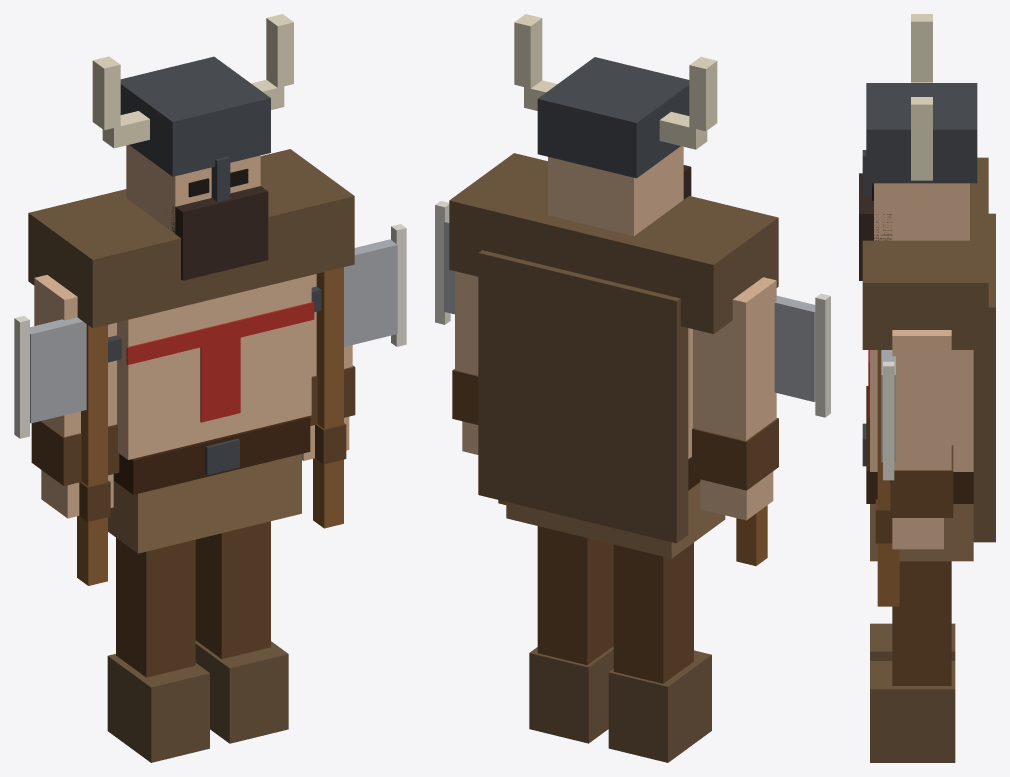
Rendered from warrior_placeholder.glb.
The picture shows the model from 3 angles, left to right: view 1: azimuth 30°, elevation 25°; view 2: azimuth 150°, elevation 25°; view 3: azimuth 270°, elevation 25°; orthographic projection. The views are drawn at different scales.
Parts seen in each view (by area): view 1: warrior_placeholder; view 2: warrior_placeholder; view 3: warrior_placeholder.
Part boxes in pixels (x1,y1,x2,y2): warrior_placeholder: [14, 14, 406, 762]; warrior_placeholder: [435, 14, 830, 762]; warrior_placeholder: [859, 14, 995, 762].
Bounding box in the file's own units: 1.18 × 2 × 0.37.
1 material, 1 textured.
